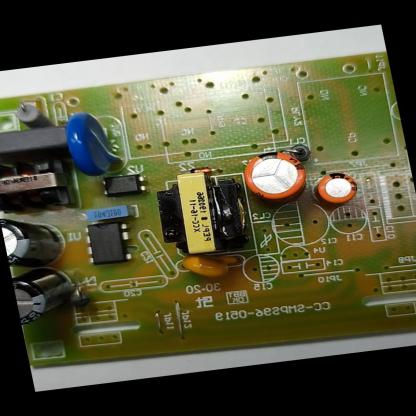Cap1: (238, 146, 314, 206)
Cap2: (310, 168, 366, 208)
Cap3: (0, 209, 70, 271)
Cap4: (10, 262, 81, 329)
MOSFET: (78, 218, 137, 267)
Mov: (60, 104, 132, 182)
Resistor: (8, 97, 53, 130)
Transformer: (148, 169, 252, 262), (0, 153, 84, 218)
